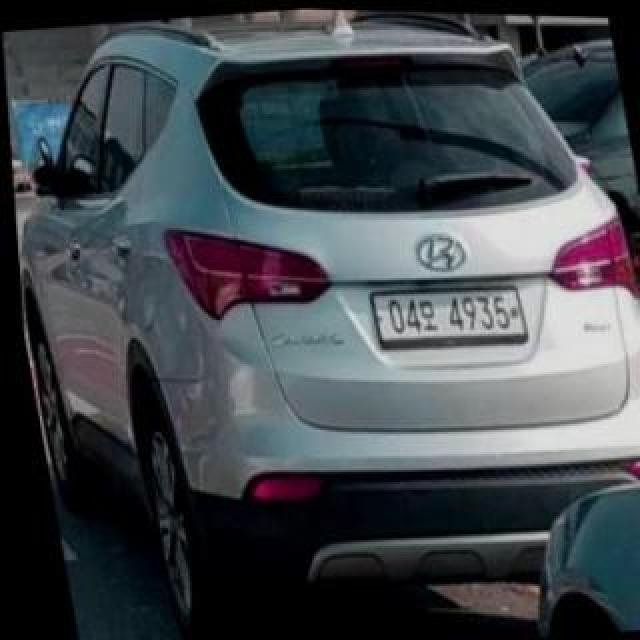car: (7, 14, 640, 626)
illegal_plate: (377, 284, 528, 348)
